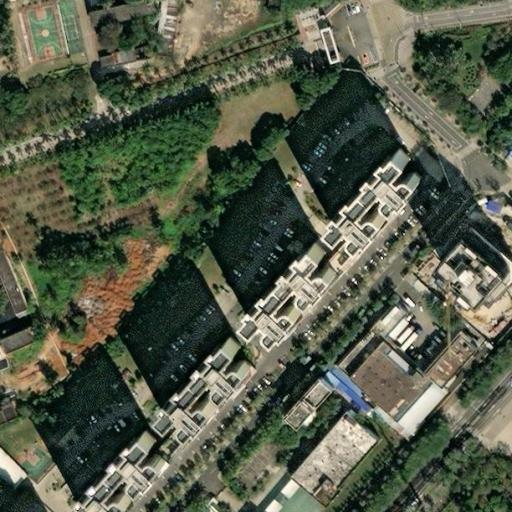building: (239, 237, 342, 347), (155, 337, 257, 446), (321, 147, 427, 250), (344, 337, 442, 433), (70, 429, 170, 512), (289, 417, 375, 507), (443, 237, 512, 307), (426, 339, 476, 391), (289, 384, 337, 433), (254, 477, 319, 512), (332, 331, 376, 379), (81, 0, 148, 31), (366, 305, 401, 342), (0, 319, 37, 354), (475, 234, 512, 268), (95, 42, 140, 69)
